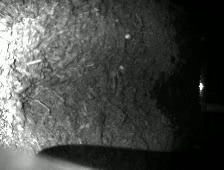corn: (124, 33, 134, 40), (119, 65, 125, 72)
